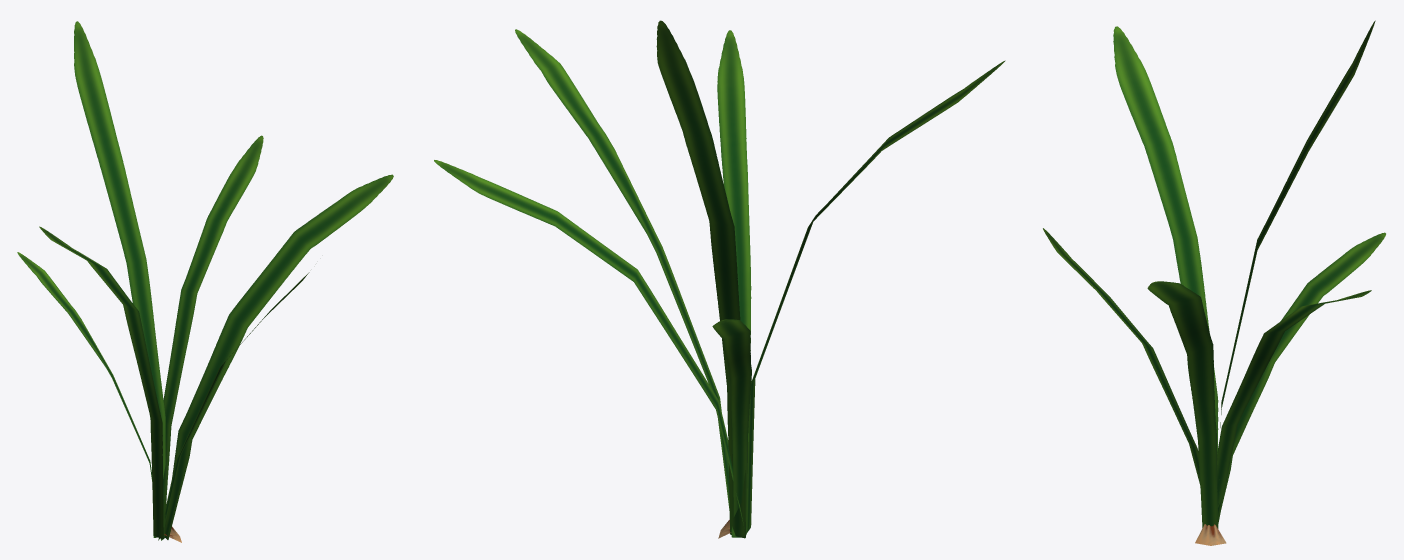
File: Padi.fbx
3 views of the same model, side by side, from view 1: azimuth 30°, elevation 25°; view 2: azimuth 150°, elevation 25°; view 3: azimuth 270°, elevation 25° (orthographic). The views are drawn at different scales.
Visible parts, largest first — view 1: Onion_single; view 2: Onion_single; view 3: Onion_single.
Part boxes in pixels (bbox=[...]): Onion_single: bbox=[17, 21, 393, 542]; Onion_single: bbox=[434, 20, 1005, 538]; Onion_single: bbox=[1043, 20, 1385, 545].
Bounding box in the file's own units: 49.09 × 58.89 × 35.78.
1 material, 1 textured.
